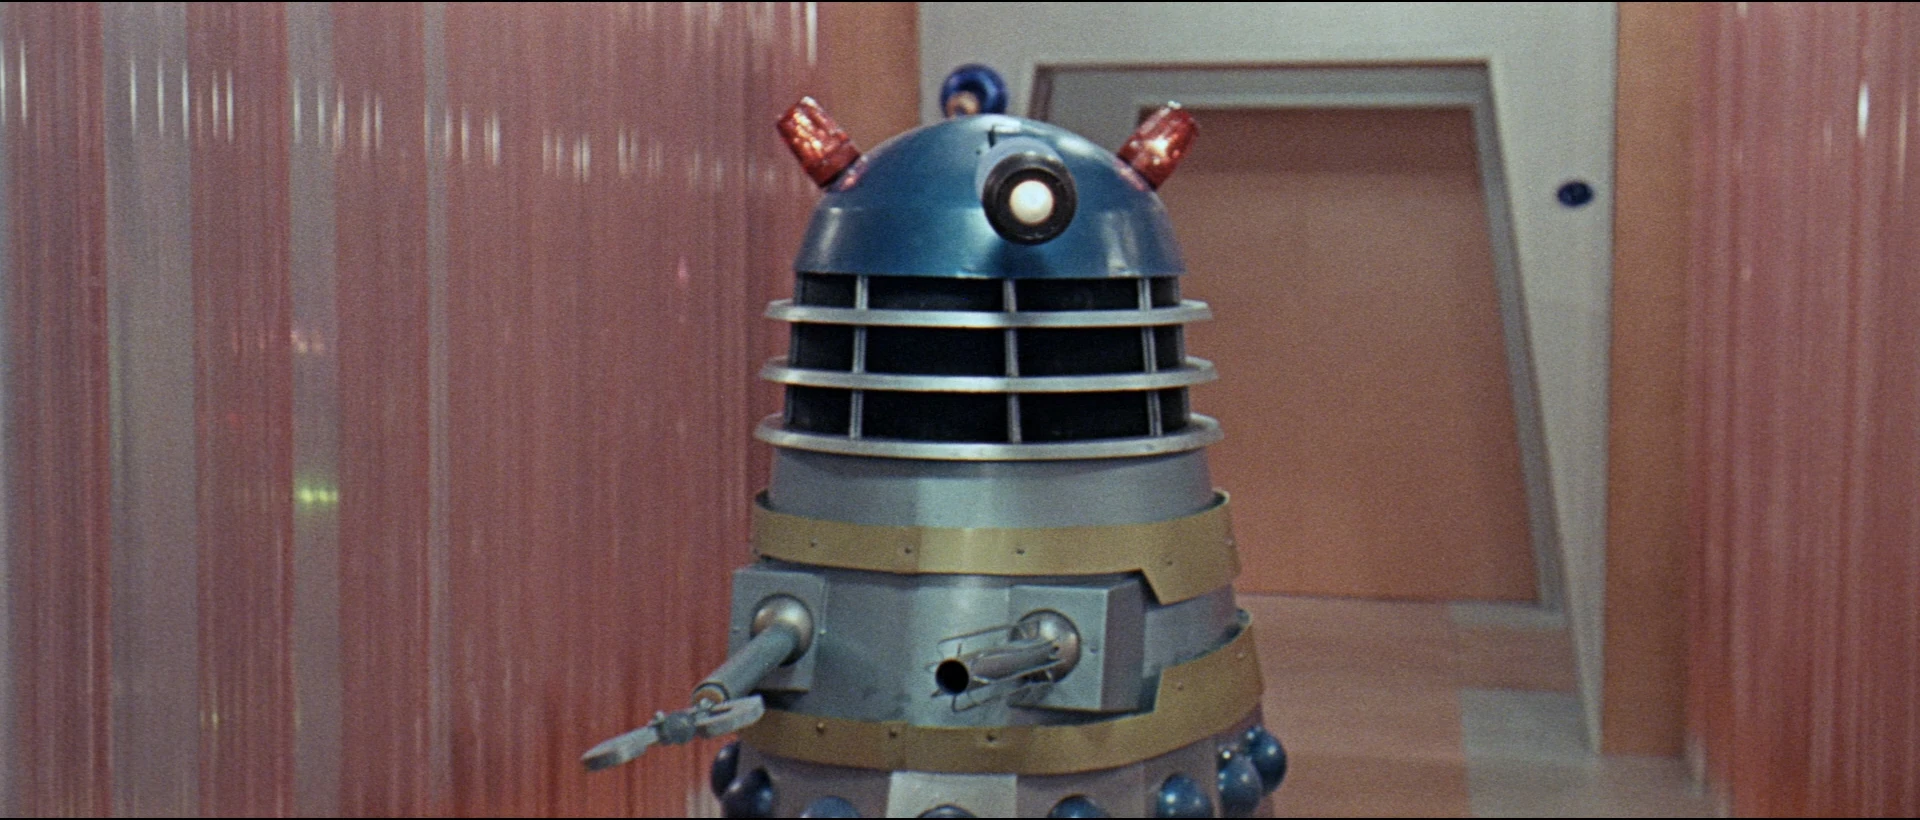Dalek: (574, 81, 1305, 820)
